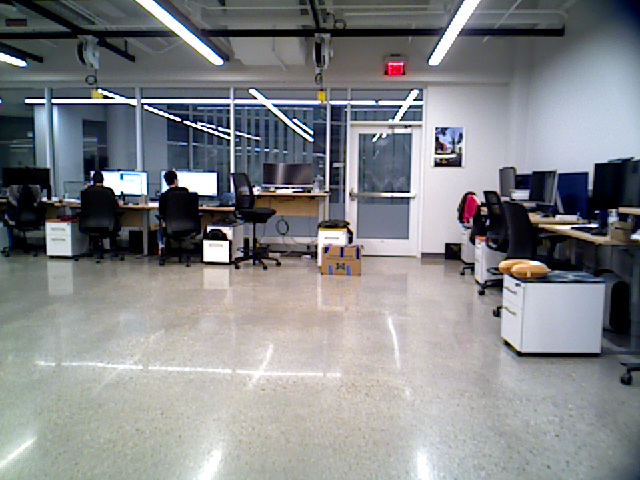painting3: (433, 127, 465, 167)
